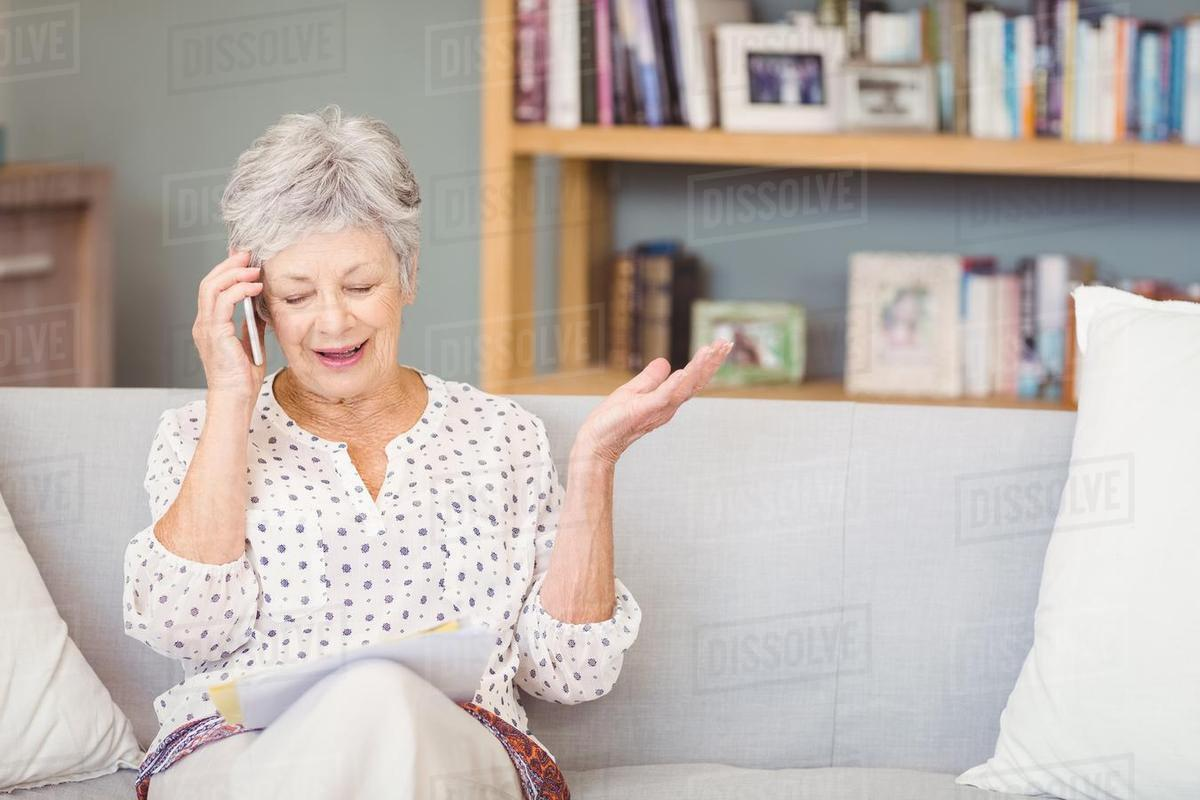phone: (194, 249, 282, 375)
talk: (180, 251, 411, 401)
